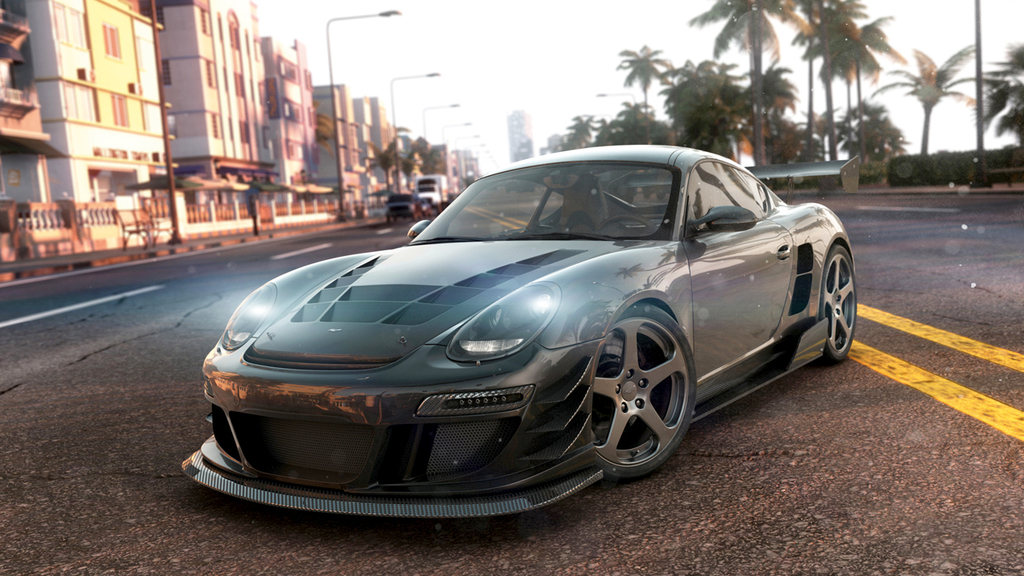mobil: (163, 151, 886, 532)
